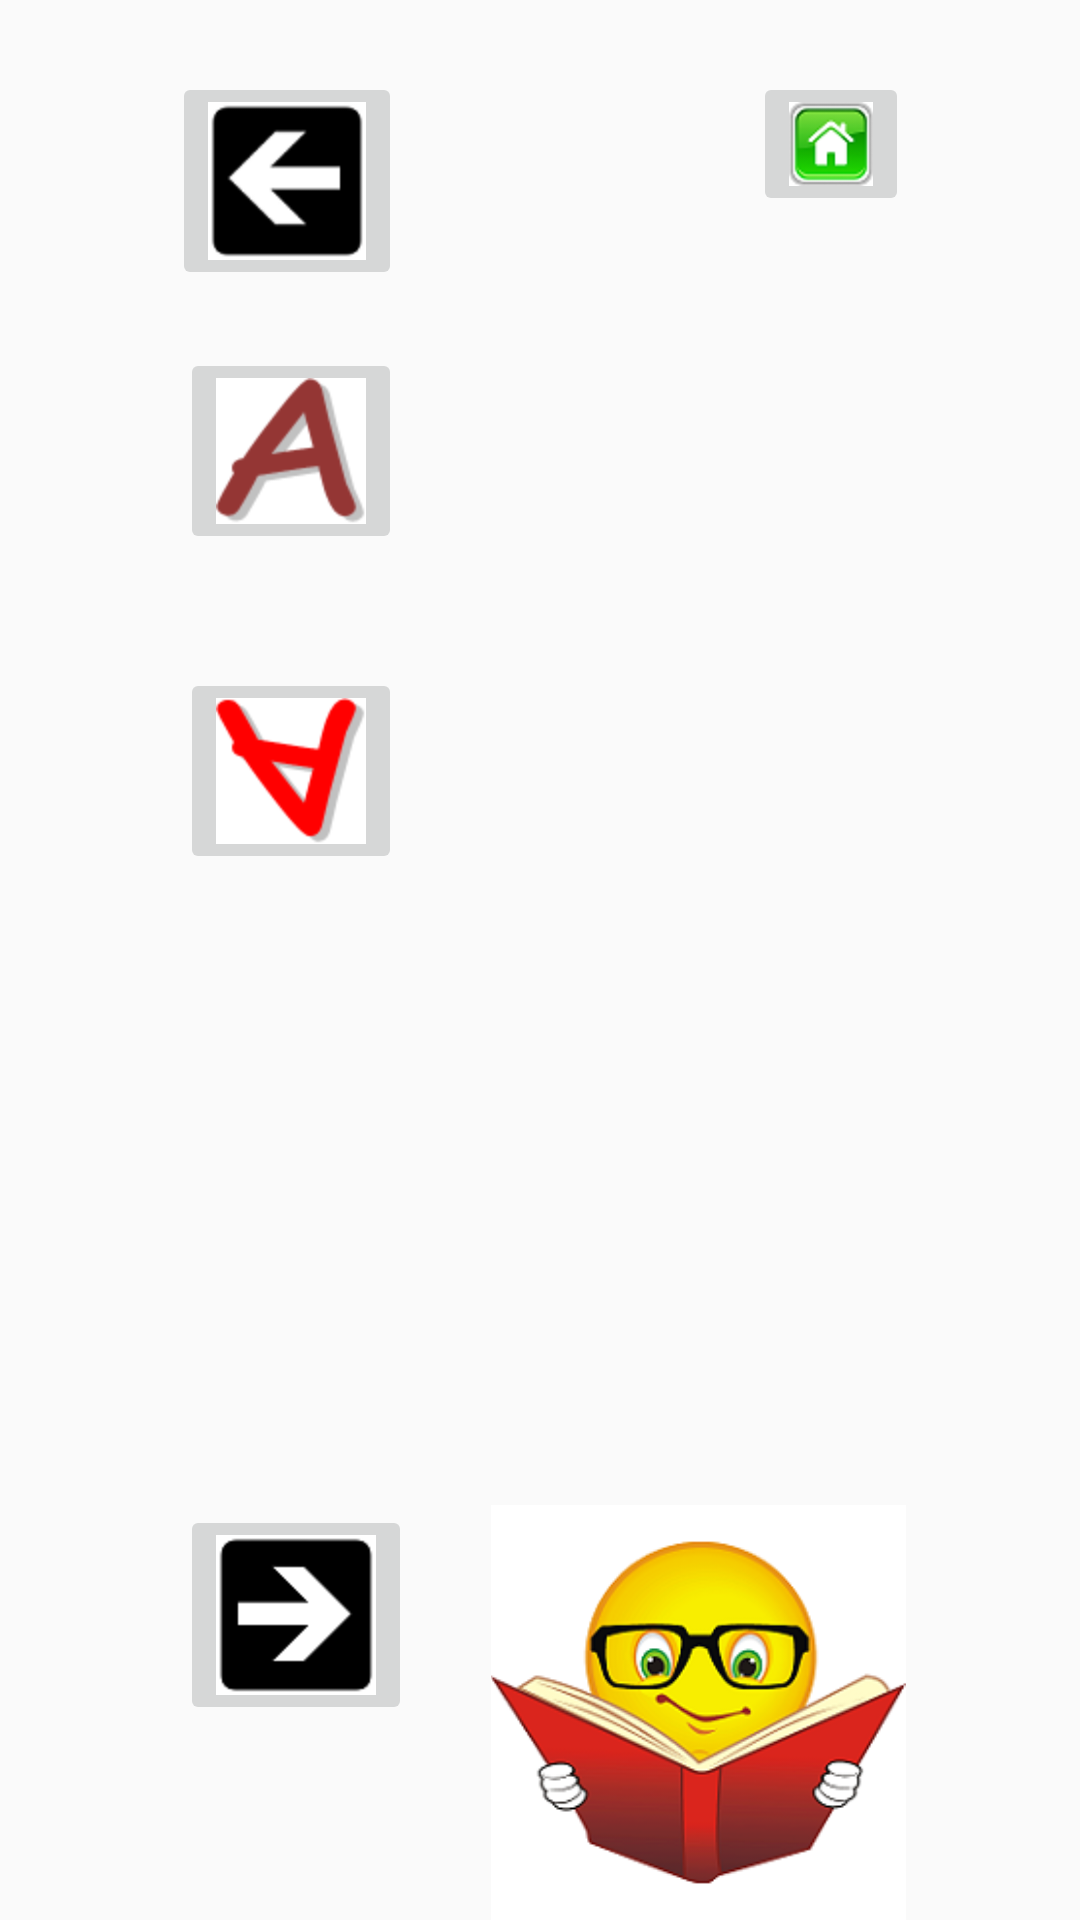

Where icons sit on this 1080x1920 app screen, as box(x1, y1, x2, y2):
backward arrow: box(184, 90, 390, 272)
forward arrow: box(192, 1523, 400, 1707)
home: box(765, 90, 897, 198)
